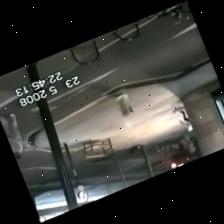person: (5, 113, 22, 159), (178, 110, 191, 130), (183, 133, 194, 154)
